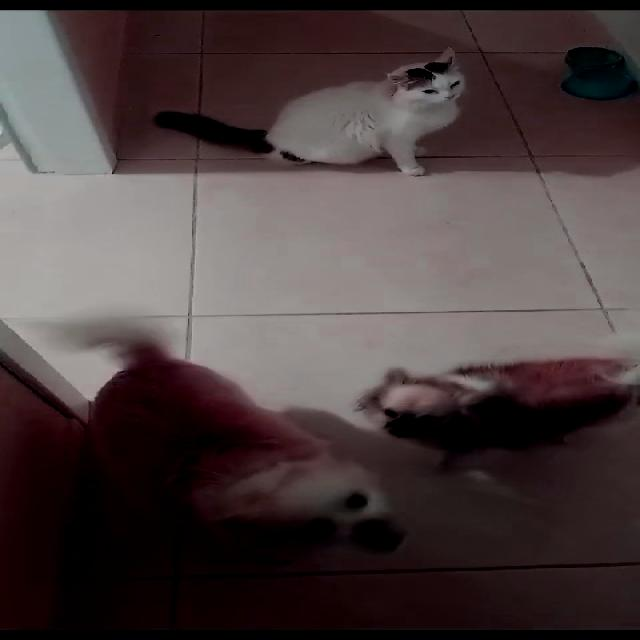Pedrita: (356, 331, 638, 455)
Simba: (194, 27, 518, 187)
Theo: (58, 308, 403, 568)
